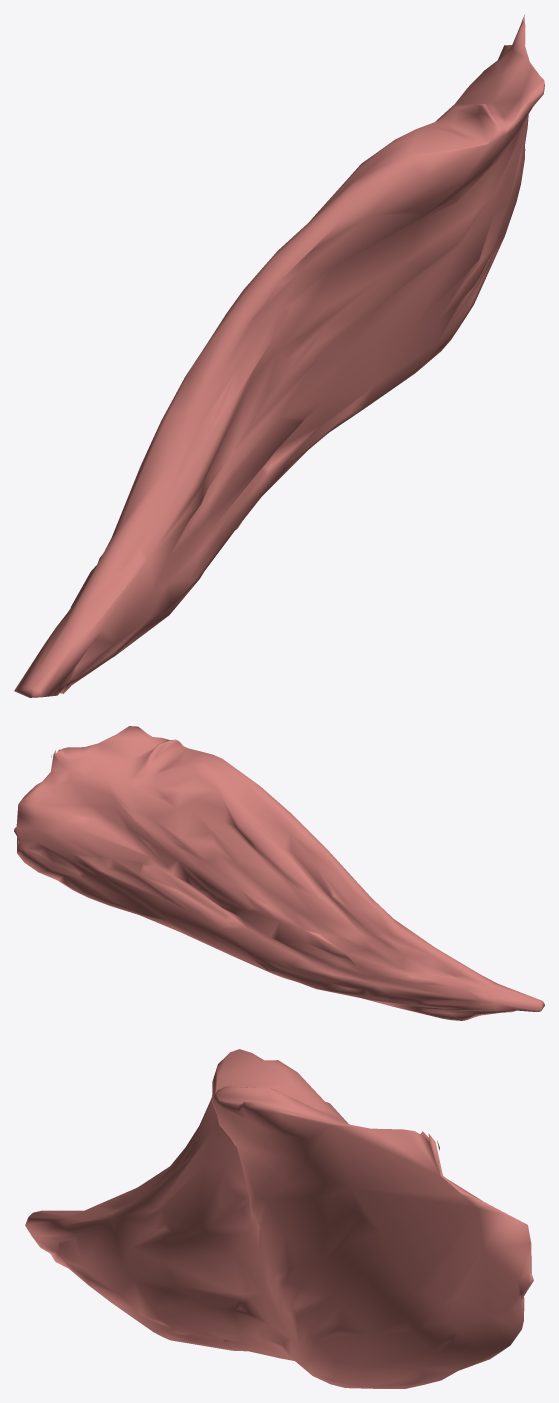
3 views of the same model, one above another, from view 1: azimuth 30°, elevation 25°; view 2: azimuth 150°, elevation 25°; view 3: azimuth 270°, elevation 25° (orthographic). The views are drawn at different scales.
Parts seen in each view (by area): view 1: ZA_32a071677e353630; view 2: ZA_32a071677e353630; view 3: ZA_32a071677e353630.
Part boxes in pixels (x1,y1,x2,y2): ZA_32a071677e353630: (14,14,544,697); ZA_32a071677e353630: (14,726,544,1020); ZA_32a071677e353630: (25,1049,533,1388).
Size of the model in its own units: 0.11 by 0.0631 by 0.0593.
